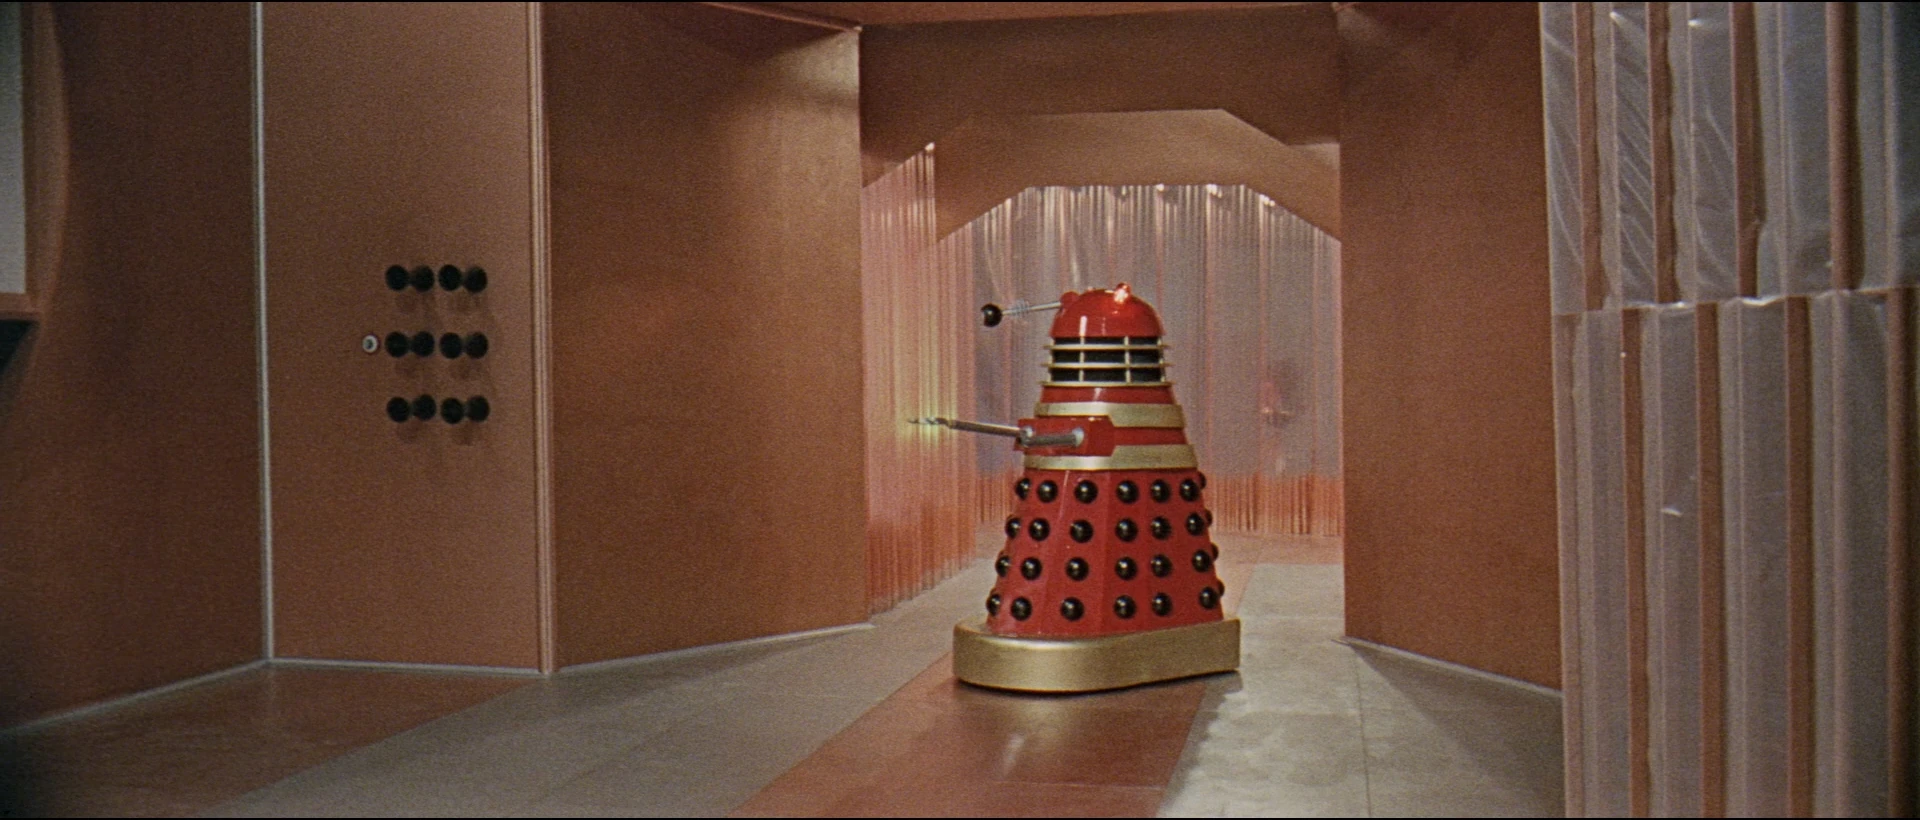Dalek: (940, 279, 1248, 699)
